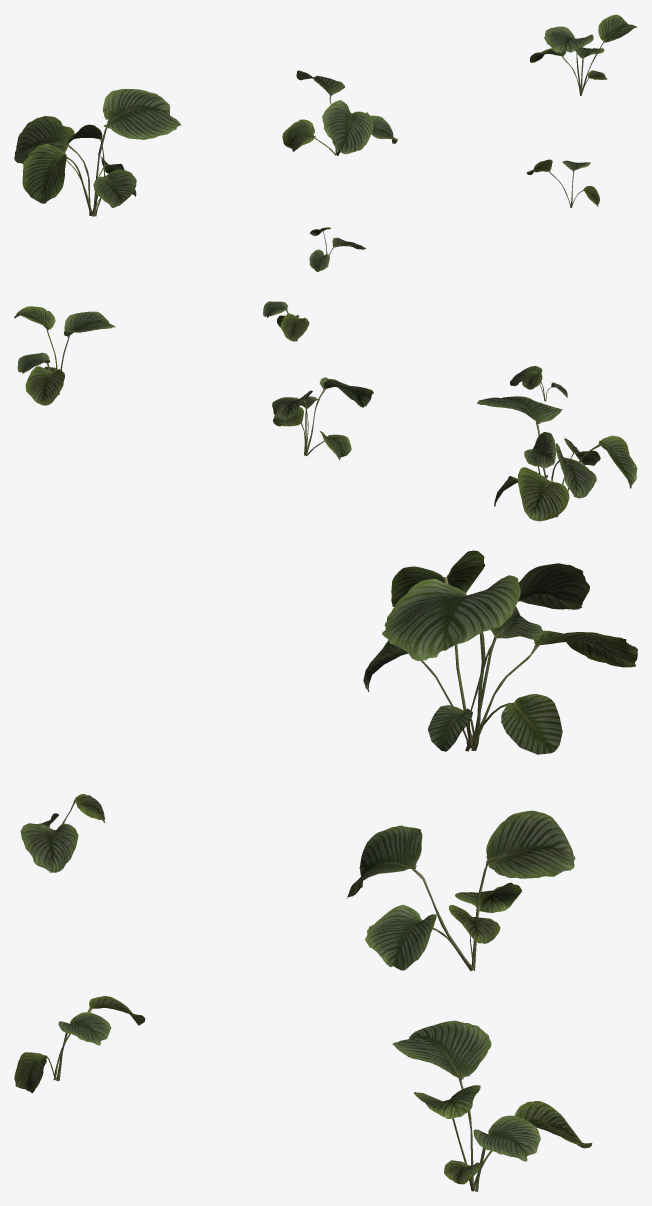
Rendered from calathea.glb.
The picture shows the model from 3 angles, top to bottom: view 1: azimuth 30°, elevation 25°; view 2: azimuth 150°, elevation 25°; view 3: azimuth 270°, elevation 25°; orthographic projection. The views are drawn at different scales.
Visible parts, largest first — view 1: calathea_orbifolia_01_a, calathea_orbifolia_01_b, calathea_orbifolia_01_c, calathea_orbifolia_01_e, calathea_orbifolia_01_d; view 2: calathea_orbifolia_01_a, calathea_orbifolia_01_c, calathea_orbifolia_01_b, calathea_orbifolia_01_e, calathea_orbifolia_01_d; view 3: calathea_orbifolia_01_a, calathea_orbifolia_01_b, calathea_orbifolia_01_c, calathea_orbifolia_01_e, calathea_orbifolia_01_d.
Boxes of the visible parts, x1,y1,x2,y2 form: calathea_orbifolia_01_a: (14,89,180,216); calathea_orbifolia_01_b: (282,70,397,155); calathea_orbifolia_01_c: (530,14,637,95); calathea_orbifolia_01_e: (526,159,599,207); calathea_orbifolia_01_d: (309,227,365,272); calathea_orbifolia_01_a: (477,396,637,521); calathea_orbifolia_01_c: (14,306,115,405); calathea_orbifolia_01_b: (272,377,373,459); calathea_orbifolia_01_e: (263,301,309,341); calathea_orbifolia_01_d: (510,366,567,401); calathea_orbifolia_01_a: (363,550,637,754); calathea_orbifolia_01_b: (346,810,575,971); calathea_orbifolia_01_c: (392,1020,592,1191); calathea_orbifolia_01_e: (14,996,145,1092); calathea_orbifolia_01_d: (20,794,105,872).
Bounding box in the file's own units: 2.49 × 0.4237 × 1.19.
Materials: 1 (1 with a texture image).
